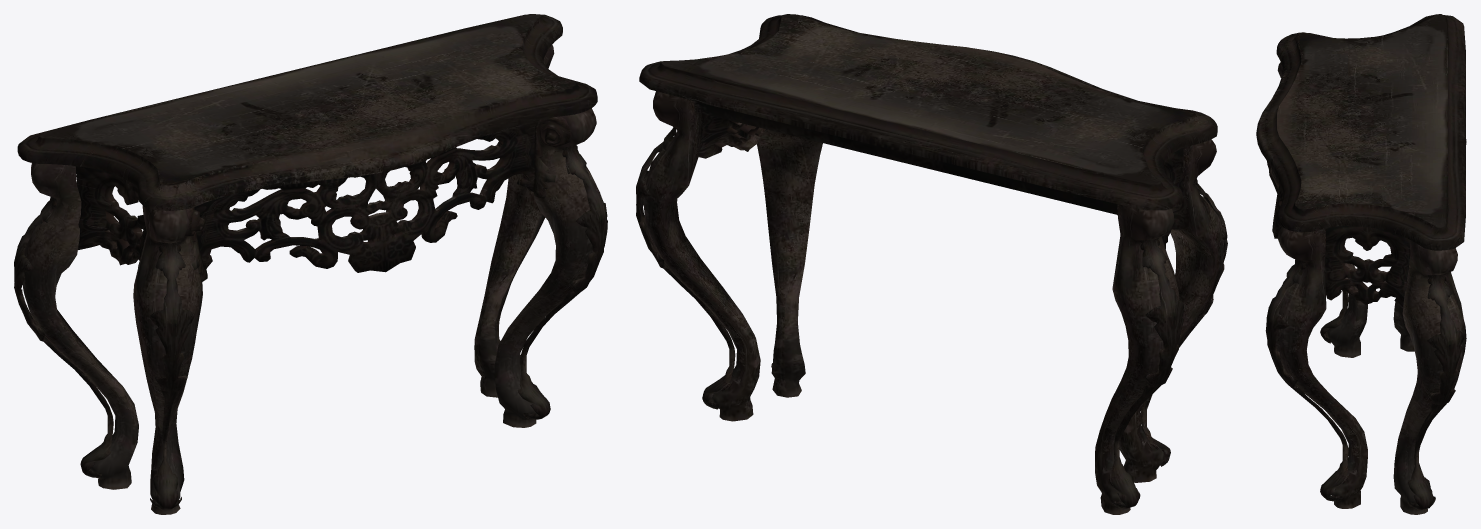
The model's file is ClassicConsole_01.glb.
3 views of the same model, side by side, from view 1: azimuth 30°, elevation 25°; view 2: azimuth 150°, elevation 25°; view 3: azimuth 270°, elevation 25° (orthographic). The views are drawn at different scales.
Visible parts, largest first — view 1: ClassicConsole_01; view 2: ClassicConsole_01; view 3: ClassicConsole_01.
Part boxes in pixels (x1,y1,x2,y2): ClassicConsole_01: (14,14,607,514); ClassicConsole_01: (636,14,1227,514); ClassicConsole_01: (1256,14,1466,514).
Bounding box in the file's own units: 1.54 × 0.9491 × 0.5893.
1 material, 1 textured.
